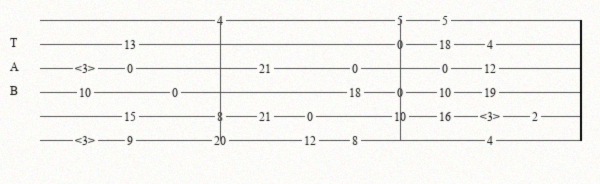0: (127, 62, 137, 75), (172, 86, 182, 99), (307, 110, 317, 123), (352, 62, 362, 75), (397, 38, 407, 51), (397, 86, 407, 99), (442, 62, 452, 75)
10: (79, 86, 95, 99), (394, 110, 410, 123), (439, 86, 455, 99)
12: (304, 134, 320, 147), (484, 62, 500, 75)
13: (124, 38, 140, 51)
15: (124, 110, 140, 123)
16: (439, 110, 455, 123)
18: (349, 86, 365, 99), (439, 38, 455, 51)
19: (484, 86, 500, 99)
2: (532, 110, 542, 123)
20: (214, 134, 230, 147)
21: (259, 62, 275, 75), (259, 110, 275, 123)
4: (217, 14, 227, 27), (487, 134, 497, 147), (487, 38, 497, 51)
5: (397, 14, 407, 27), (442, 14, 452, 27)
8: (217, 110, 227, 123), (352, 134, 362, 147)
9: (127, 134, 137, 147)
harmonic: (75, 134, 99, 147), (75, 62, 99, 75), (480, 110, 504, 123)
